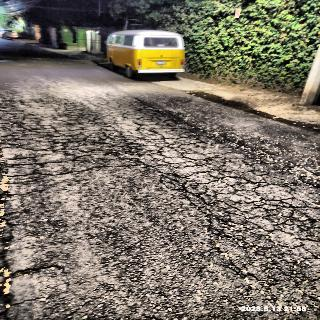alligator-crack: (139, 136, 320, 274), (4, 102, 128, 181)
crack: (8, 203, 70, 320), (128, 104, 210, 152)
